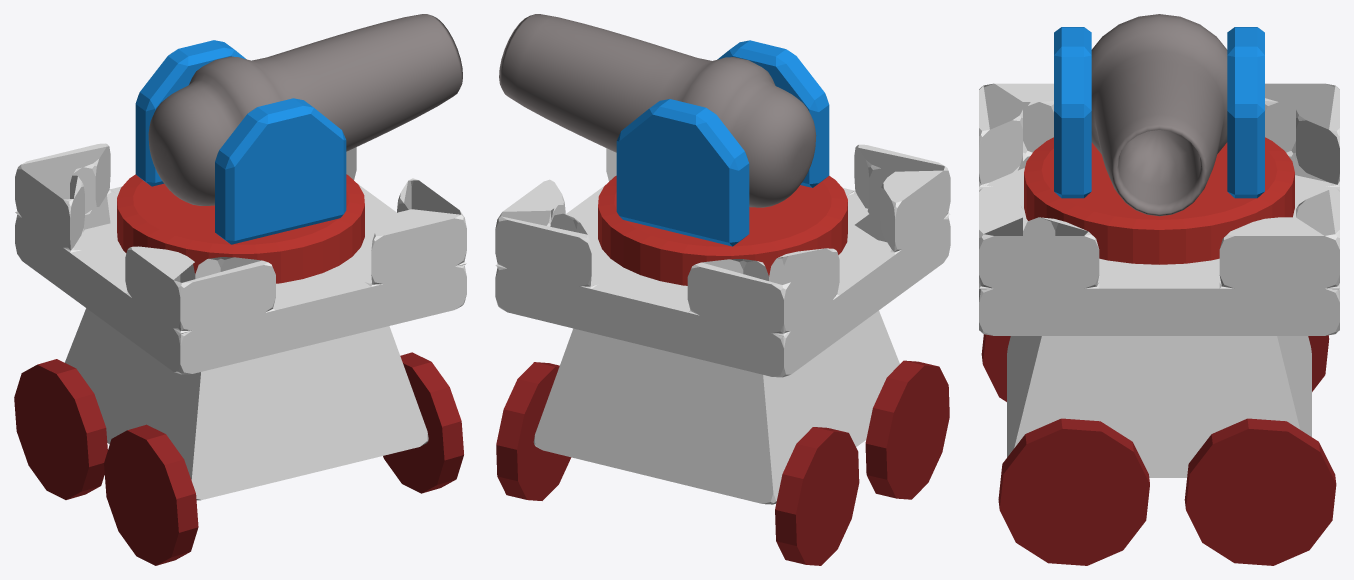
The picture shows the model from 3 angles, left to right: view 1: azimuth 30°, elevation 25°; view 2: azimuth 150°, elevation 25°; view 3: azimuth 270°, elevation 25°; orthographic projection. The views are drawn at different scales.
Visible parts, largest first — view 1: Plane, Cylinder.001, Cylinder.002, Plane.001, Cylinder; view 2: Plane, Cylinder.001, Cylinder.002, Plane.001, Cylinder; view 3: Plane, Cylinder.002, Cylinder.001, Cylinder, Plane.001.
Part boxes in pixels (bbox=[...]): Plane: bbox=[15, 143, 466, 500]; Cylinder.001: bbox=[148, 14, 462, 205]; Cylinder.002: bbox=[14, 352, 463, 565]; Plane.001: bbox=[135, 40, 346, 244]; Cylinder: bbox=[117, 174, 364, 283]; Plane: bbox=[495, 144, 950, 504]; Cylinder.001: bbox=[499, 14, 816, 207]; Cylinder.002: bbox=[496, 360, 949, 565]; Plane.001: bbox=[616, 40, 829, 246]; Cylinder: bbox=[598, 175, 847, 285]; Plane: bbox=[979, 83, 1339, 477]; Cylinder.002: bbox=[981, 334, 1336, 565]; Cylinder.001: bbox=[1091, 14, 1227, 216]; Cylinder: bbox=[1024, 137, 1294, 264]; Plane.001: bbox=[1054, 27, 1264, 198].
Size of the model in its own units: 587 by 674 by 473.
